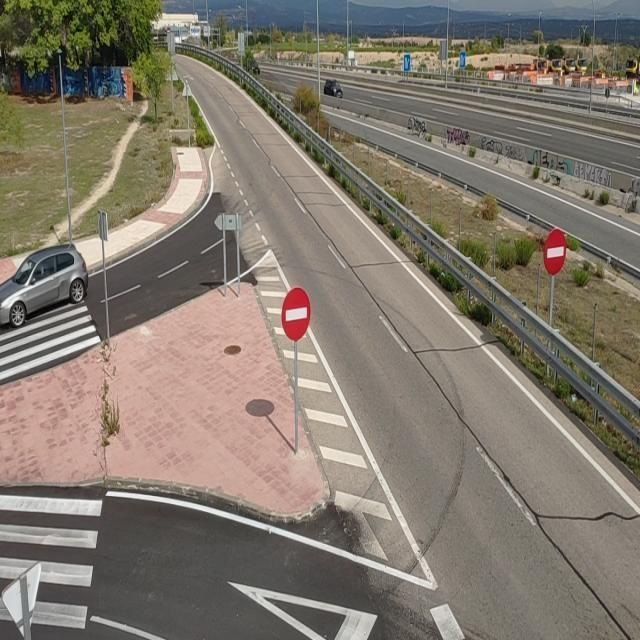Car: (0, 242, 89, 327), (323, 78, 343, 98)
